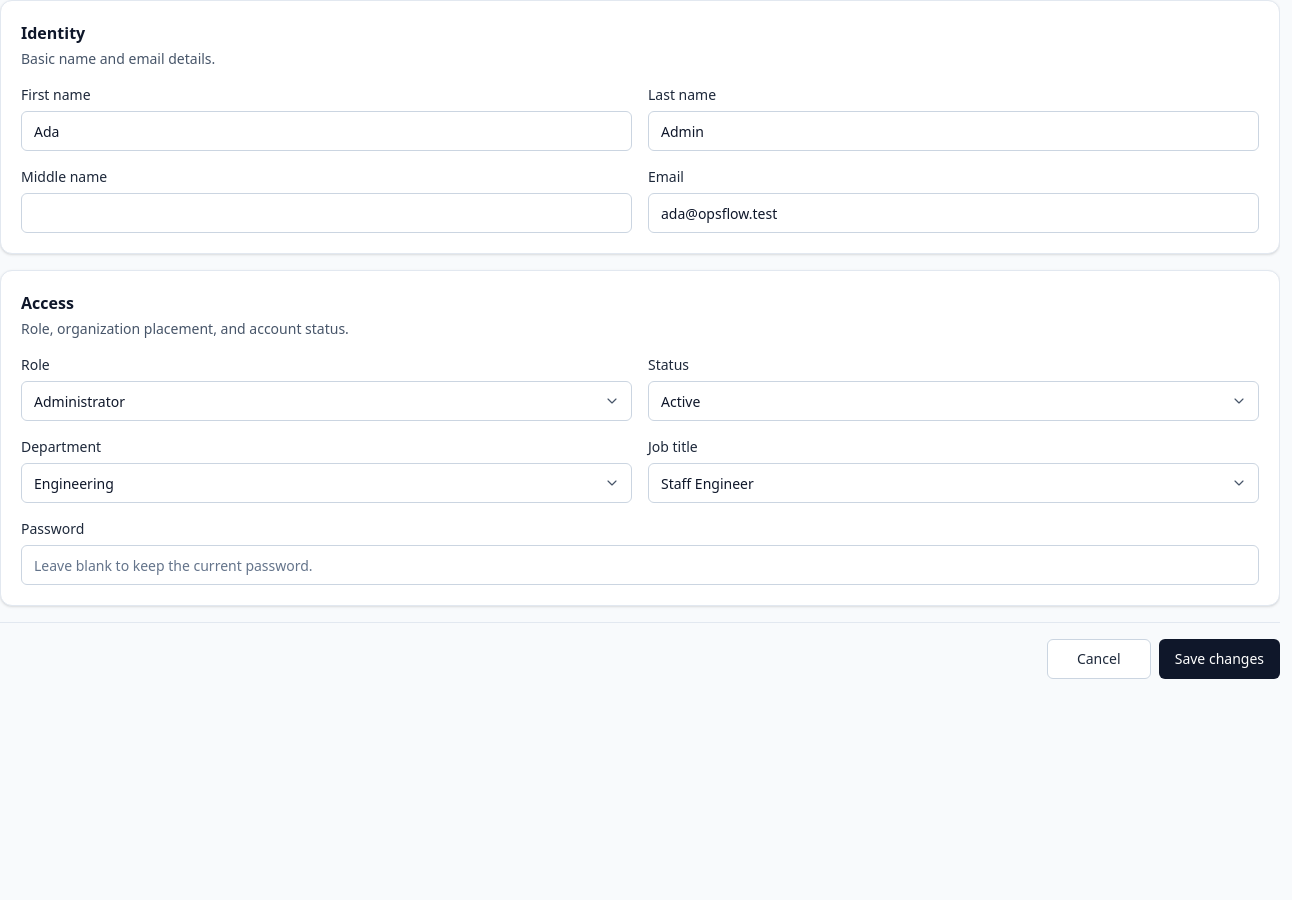
Scenario: UserForm dependent department/job title select › clears job title and reloads when department changes
The image size is (1292, 900).
Expected: the dropdown with id "job_title_id" shows "Staff Engineer", [648,463,1259,503]
Select "Operations" in the dropdown with id "department_id": (326, 483) [21,463,632,503]
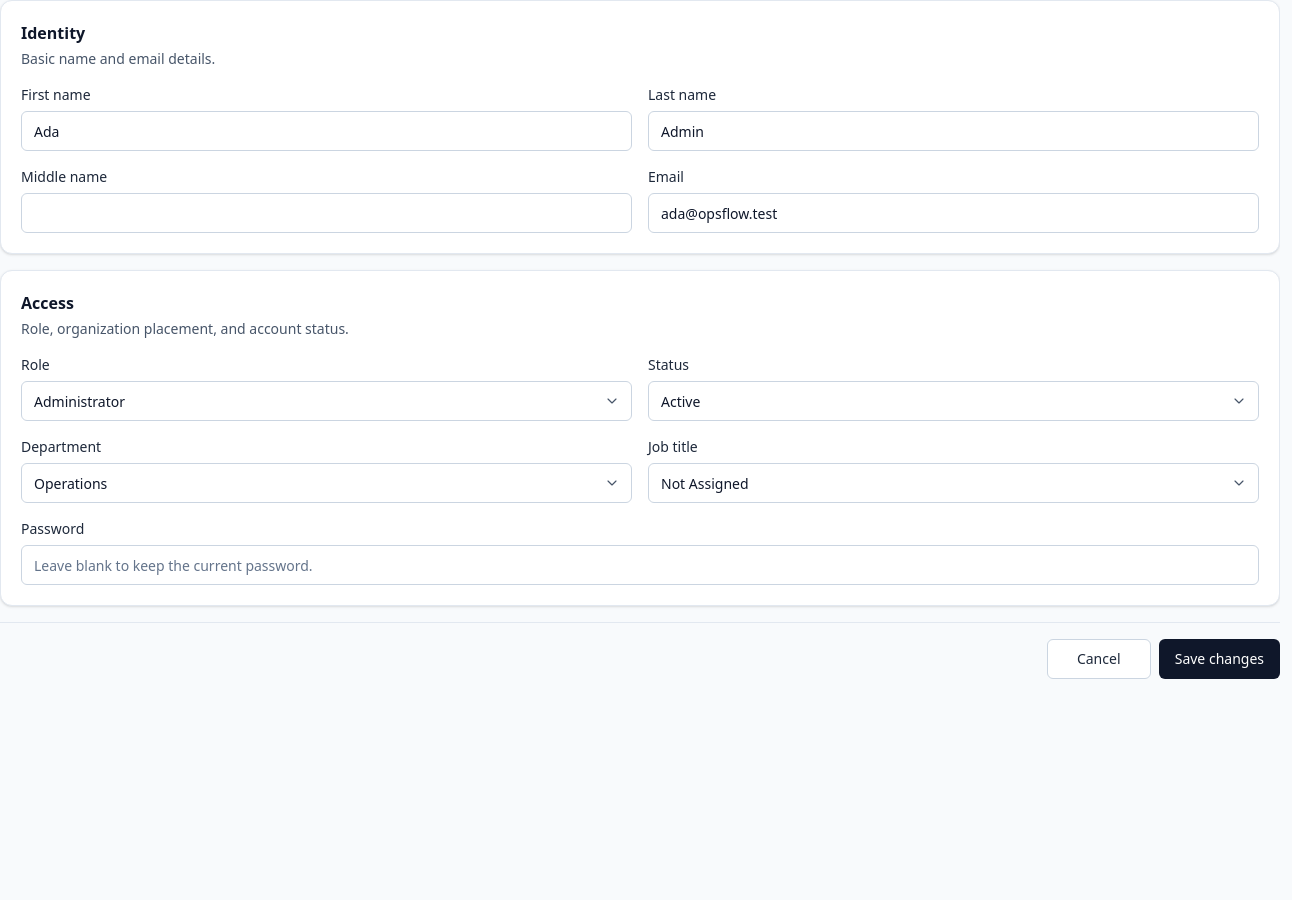
Now the dropdown with id "job_title_id" shows "Not Assigned", box [648,463,1259,503]
